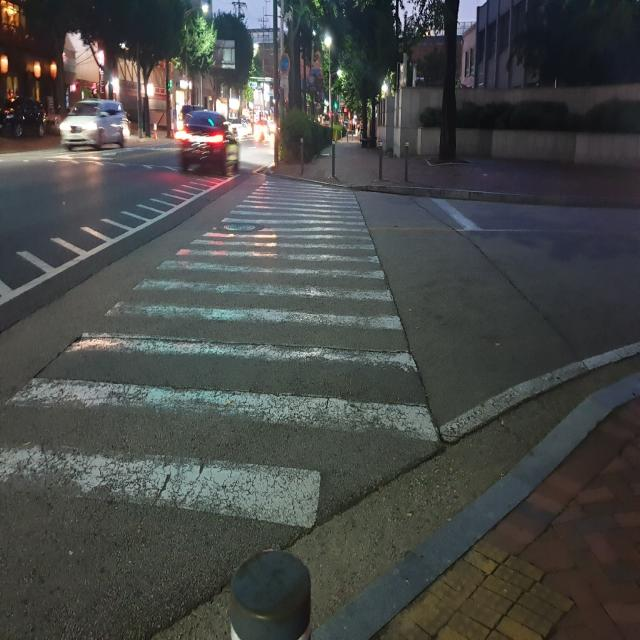횡단보도: (0, 180, 438, 527)
